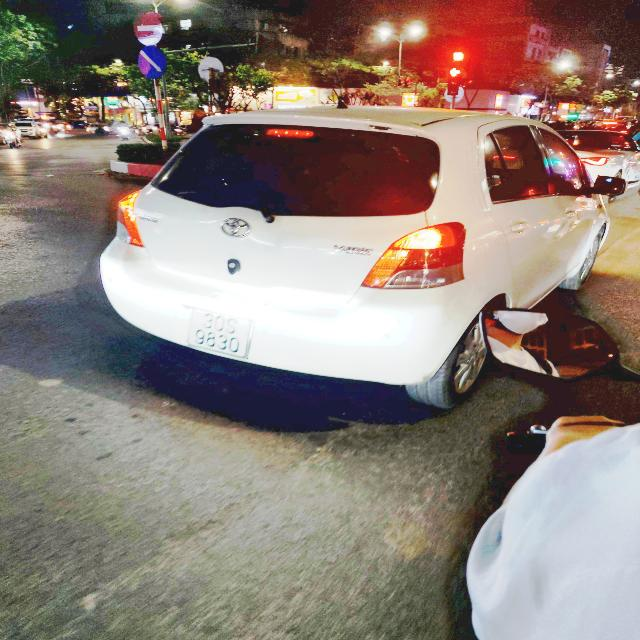license_plate: (177, 304, 264, 367)
